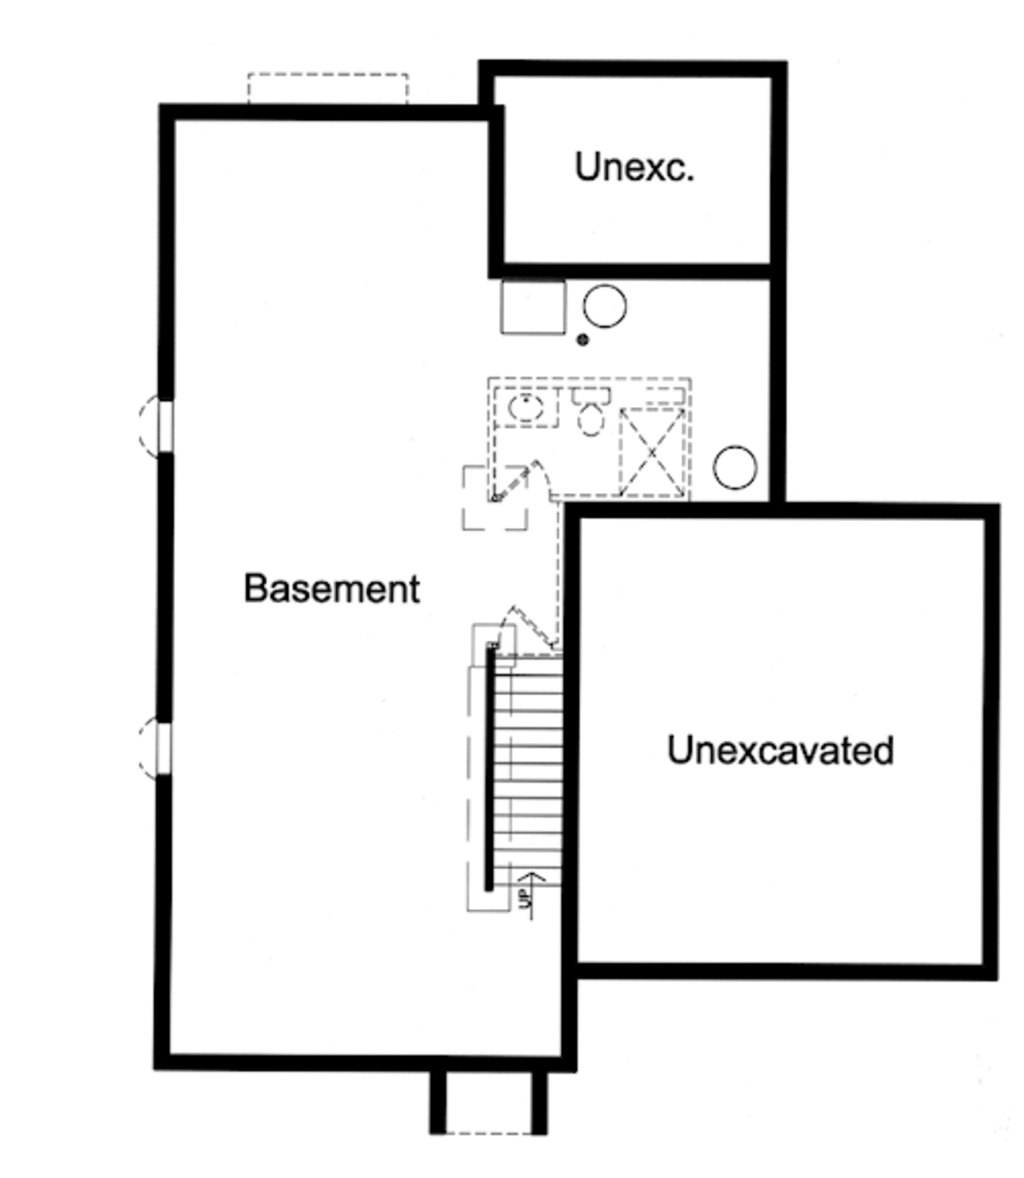large_sink: (564, 379, 611, 445)
stairs: (489, 642, 566, 912)
